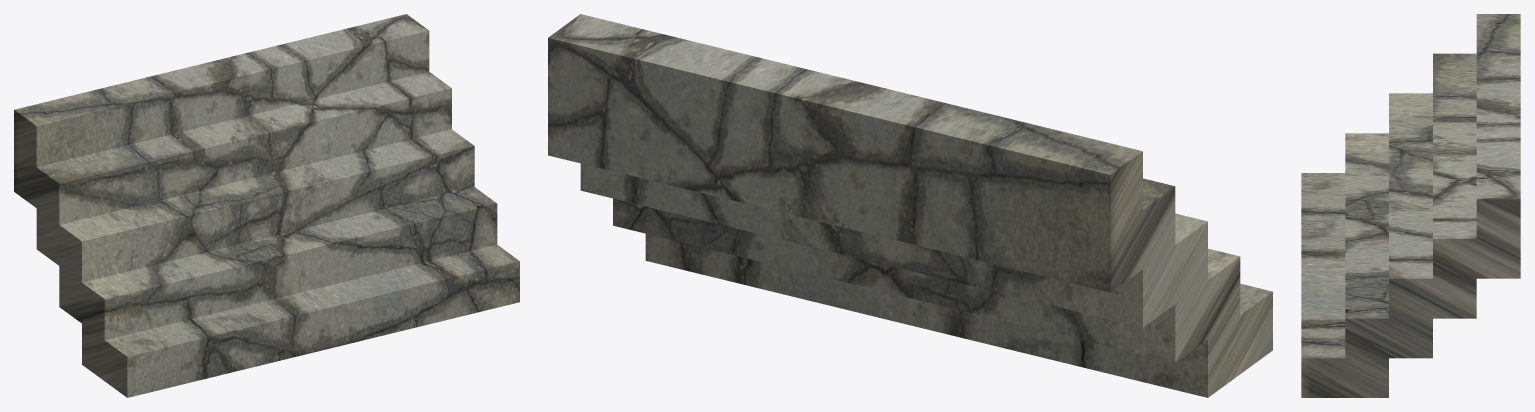
File: stairs (1).glb
3 renders of one model, left to right at view 1: azimuth 30°, elevation 25°; view 2: azimuth 150°, elevation 25°; view 3: azimuth 270°, elevation 25°, orthographic. The views are drawn at different scales.
Parts seen in each view (by area): view 1: pCube1; view 2: pCube1; view 3: pCube1.
Part boxes in pixels (x1,y1,x2,y2): pCube1: [14, 14, 519, 397]; pCube1: [548, 14, 1272, 397]; pCube1: [1301, 14, 1520, 397].
Size of the model in its own units: 10 by 5 by 5.
1 material, 1 textured.
